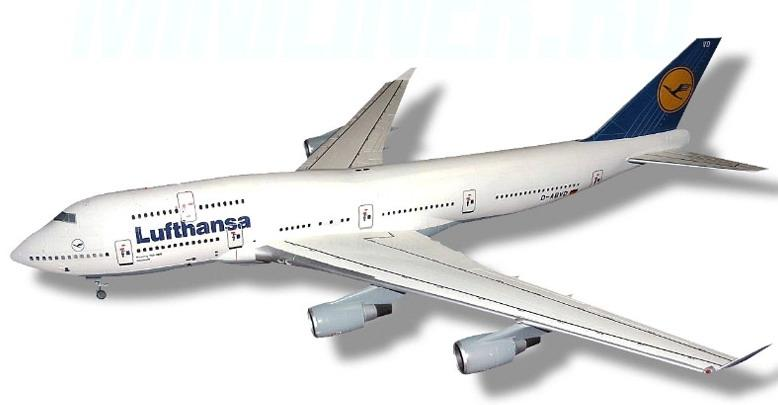airplane: (19, 33, 778, 381)
